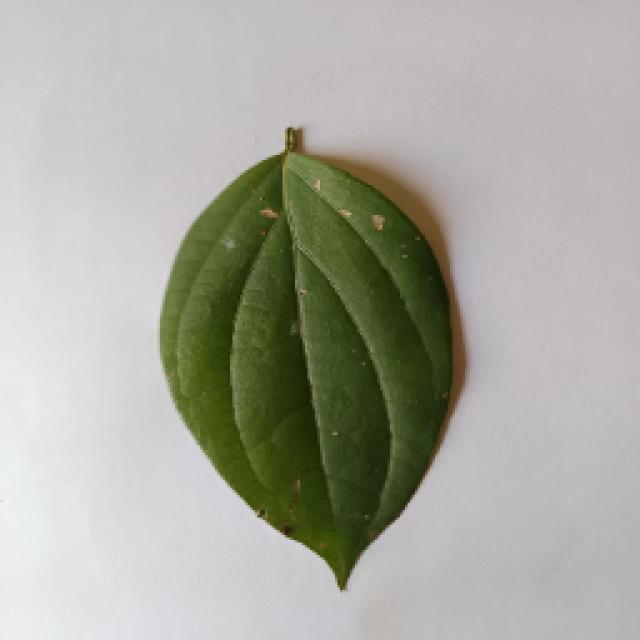pollu-disease: (140, 123, 465, 585)
